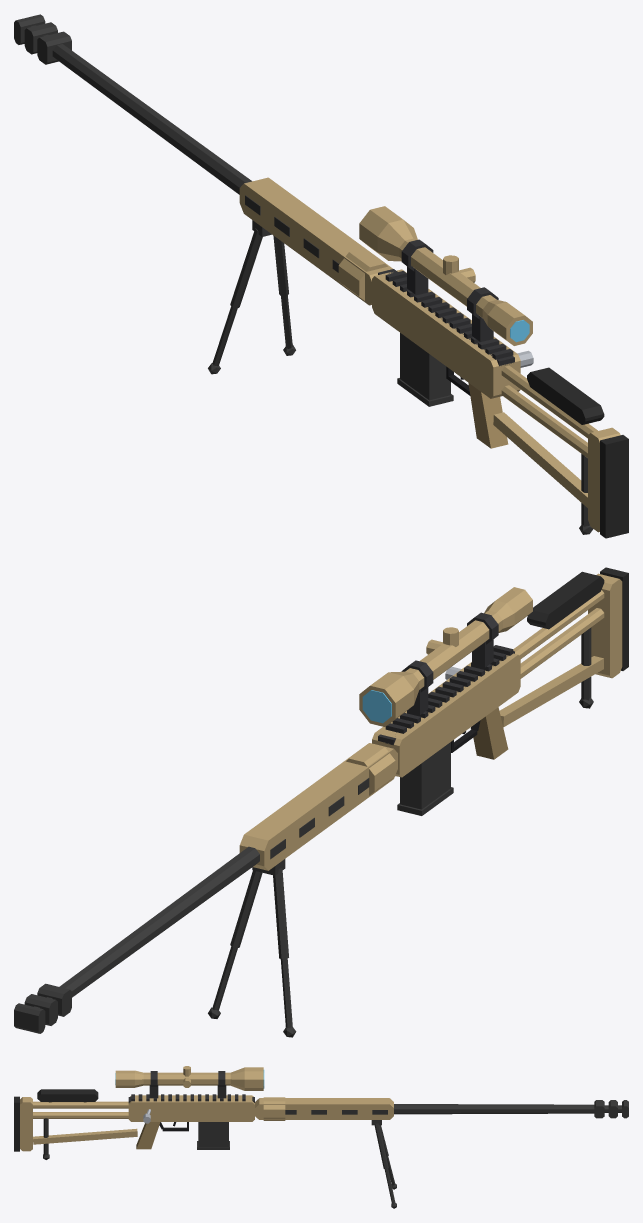
The model's file is Longbow.obj.
The picture shows the model from 3 angles, top to bottom: view 1: azimuth 30°, elevation 25°; view 2: azimuth 150°, elevation 25°; view 3: azimuth 270°, elevation 25°; orthographic projection. The views are drawn at different scales.
Parts seen in each view (by area): view 1: Scope, Body, Stock, Handguard, Pad, Barrel, Mount, Bipod, Magazine, Muzzle, Grip; view 2: Stock, Scope, Handguard, Body, Barrel, Bipod, Mount, Pad, Magazine, Muzzle, Grip, Lens; view 3: Body, Stock, Scope, Handguard, Barrel, Pad, Mount, Bipod, Magazine, Muzzle, Grip.
Part boxes in pixels (box(x1,y1,x2,y2)): Scope: box(338, 206, 532, 345); Body: box(372, 269, 520, 398); Stock: box(493, 365, 620, 532); Handguard: box(239, 177, 392, 305); Pad: box(527, 367, 628, 538); Barrel: box(52, 44, 339, 272); Mount: box(378, 239, 514, 366); Bipod: box(208, 220, 593, 534); Magazine: box(397, 333, 453, 406); Muzzle: box(14, 14, 71, 64); Grip: box(468, 383, 508, 448); Stock: box(499, 573, 622, 727); Scope: box(346, 587, 532, 795); Handguard: box(239, 743, 397, 870); Body: box(372, 653, 520, 777); Barrel: box(59, 778, 369, 997); Bipod: box(208, 627, 593, 1037); Mount: box(378, 612, 514, 745); Pad: box(527, 567, 628, 670); Magazine: box(397, 742, 453, 815); Muzzle: box(14, 983, 71, 1033); Grip: box(473, 707, 508, 759); Lens: box(362, 690, 391, 723); Body: box(128, 1095, 254, 1121); Stock: box(20, 1097, 137, 1151); Scope: box(115, 1066, 285, 1120); Handguard: box(255, 1098, 393, 1119); Barrel: box(285, 1104, 594, 1114); Pad: box(14, 1089, 98, 1151); Mount: box(128, 1071, 254, 1102); Bipod: box(43, 1118, 396, 1208); Magazine: box(197, 1122, 229, 1149); Muzzle: box(594, 1100, 628, 1118); Grip: box(136, 1122, 160, 1149).
Bounding box in the file's own units: 0.588 × 1.66 × 7.07.
